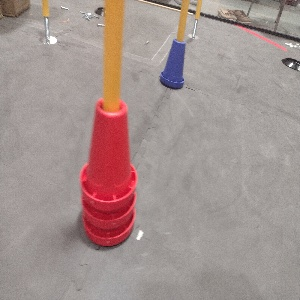Blue_1: (158, 37, 185, 89)
Red_3: (79, 95, 137, 247)
